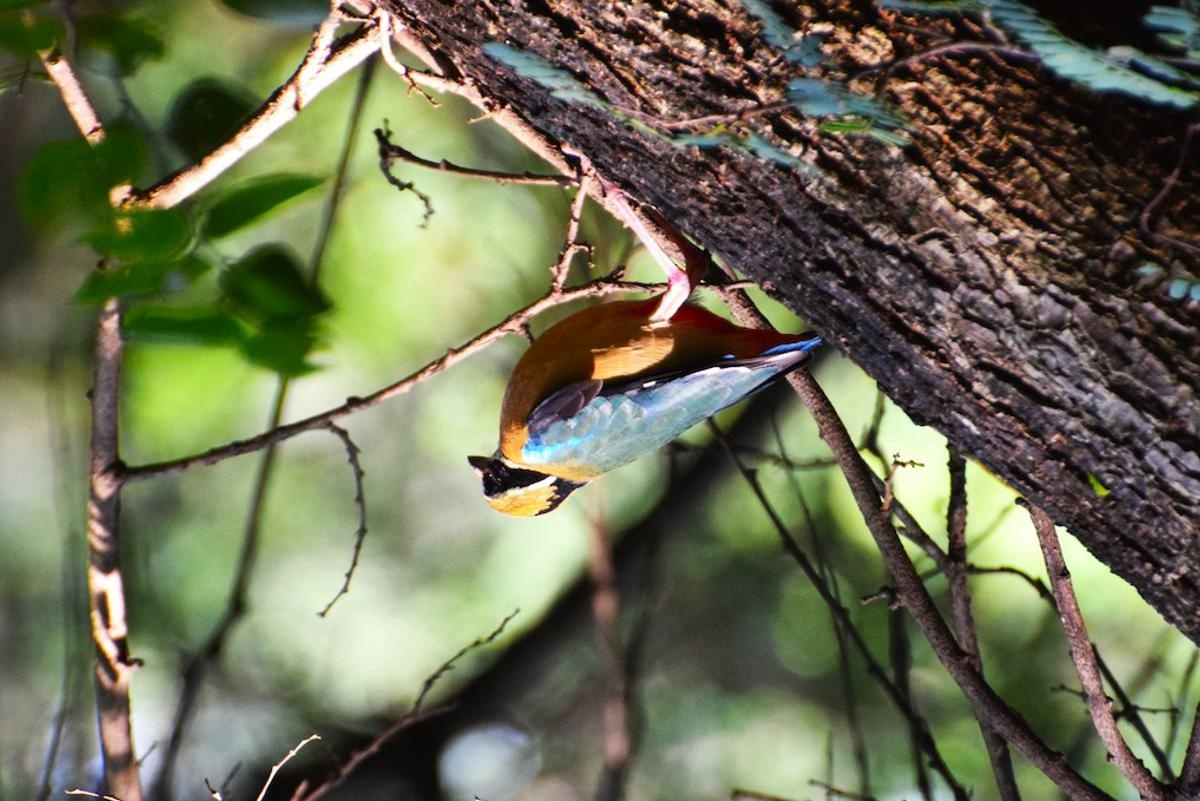pitta: (461, 261, 855, 556)
